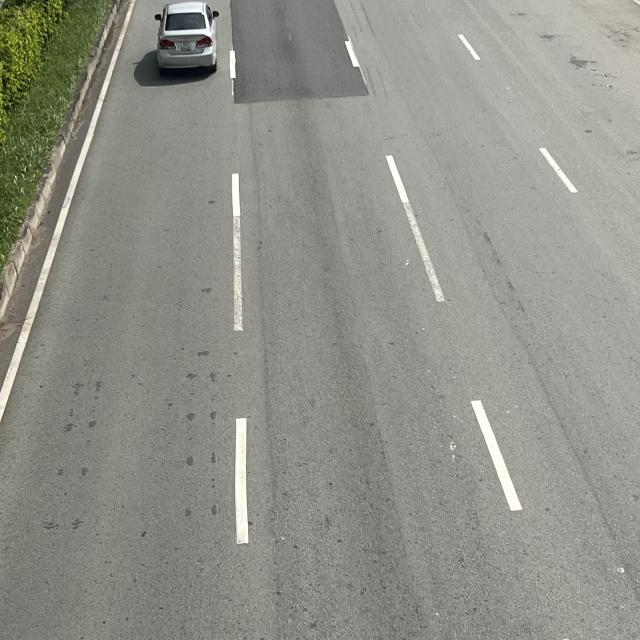car: (153, 4, 219, 71)
